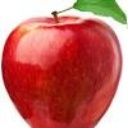apple: (1, 9, 128, 128)
